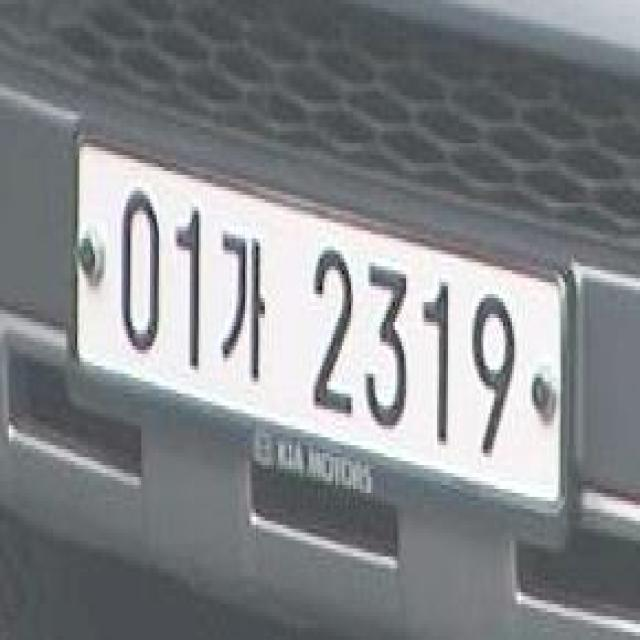illegal_plate: (75, 108, 572, 559)
